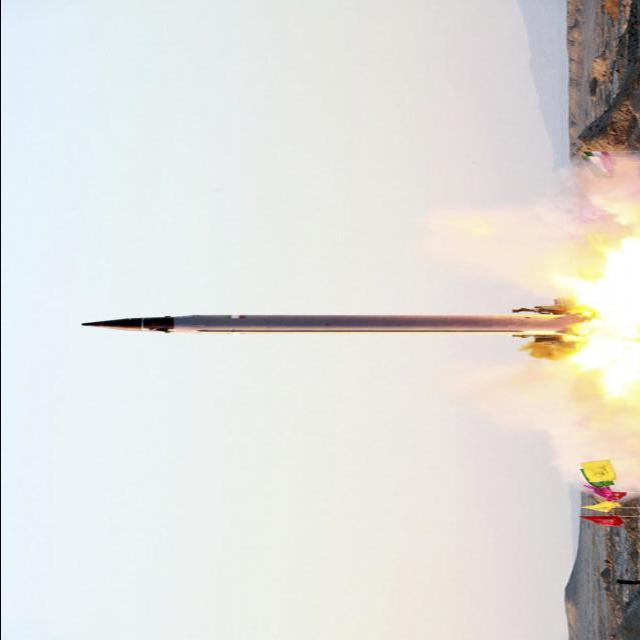missile: (75, 311, 587, 335)
